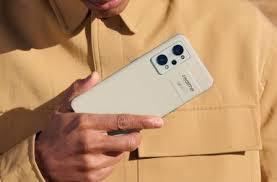Hand: (46, 74, 168, 182)
Smartphone: (81, 32, 223, 134)
